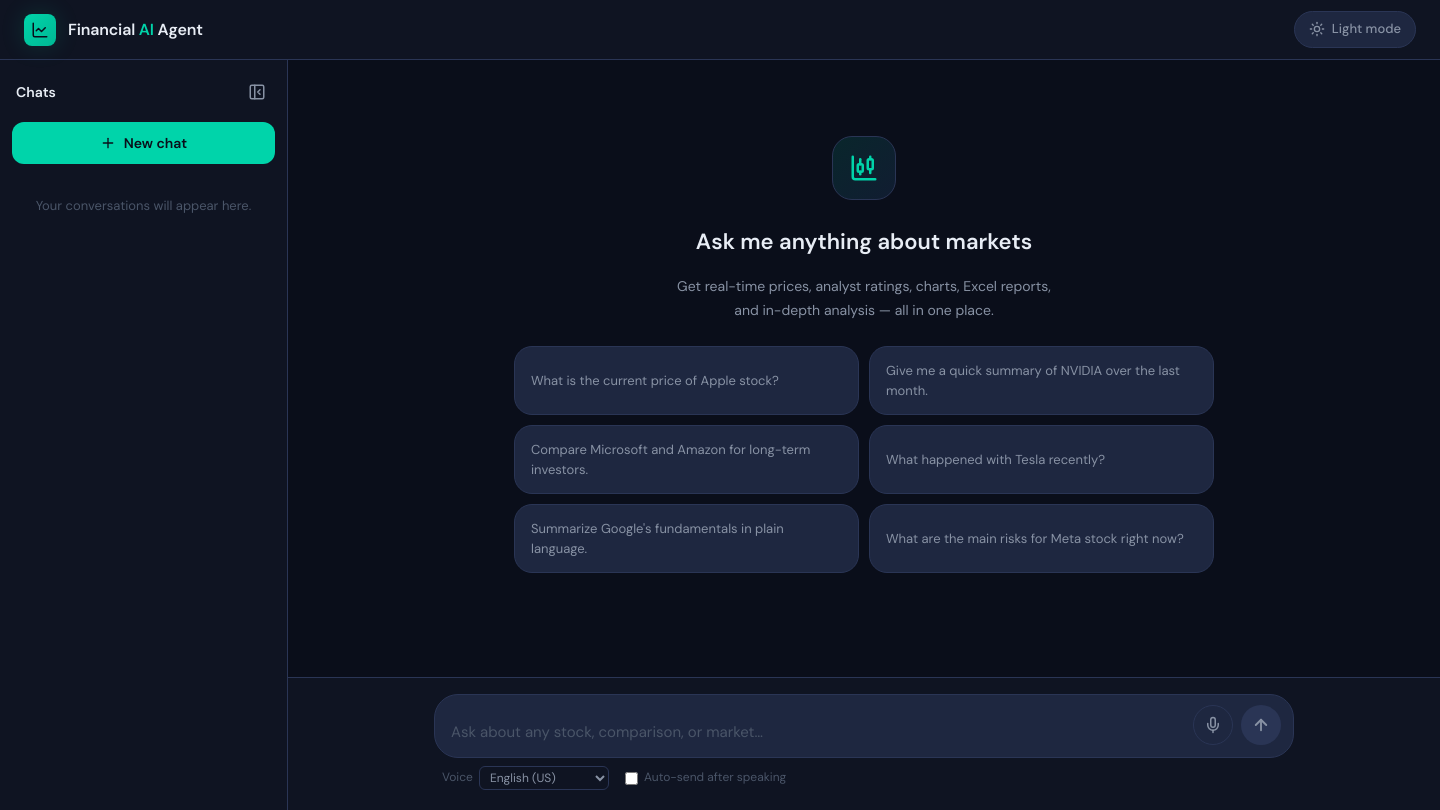
Test: App error toast under StrictMode › a failed request produces exactly one toast
In the text box named "Message": [815, 732] box top-left (447, 716), bottom-right (1183, 747), type "hi"
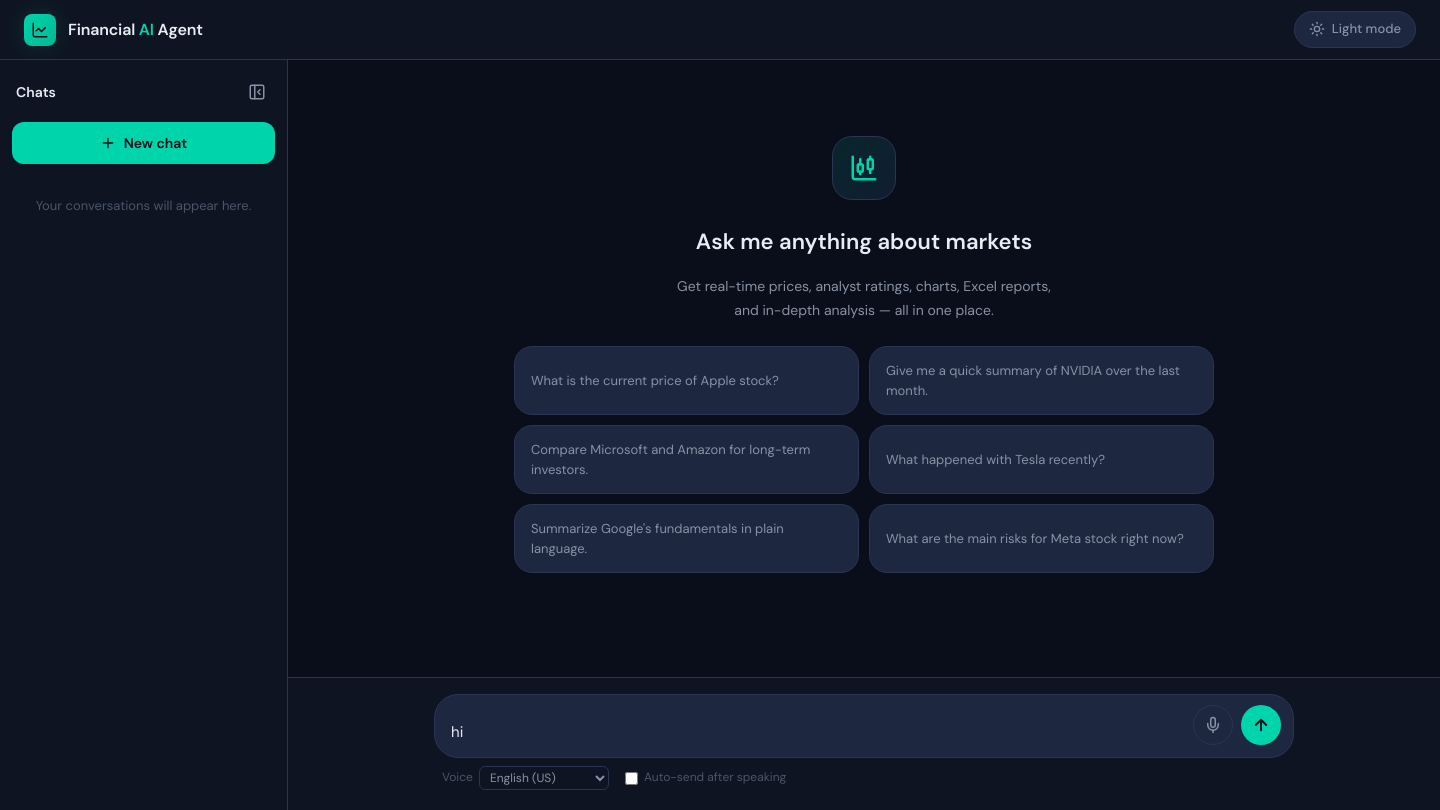
Click the button named "Send": [1261, 725] box top-left (1241, 705), bottom-right (1281, 745)
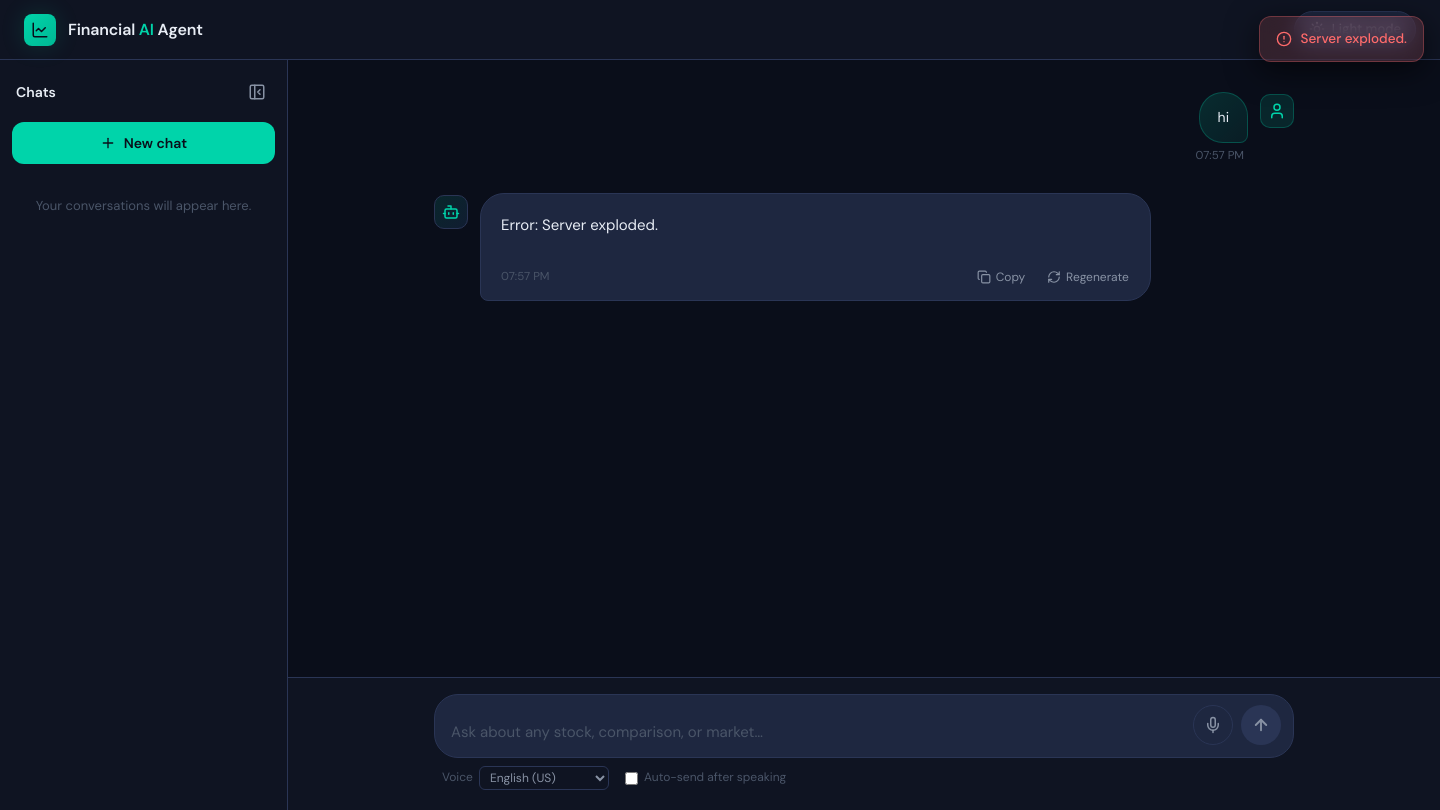
Now the number of messages is 1, box top-left (1260, 16), bottom-right (1424, 62)
Now the message reads "Server exploded.", box top-left (1300, 30), bottom-right (1407, 47)
